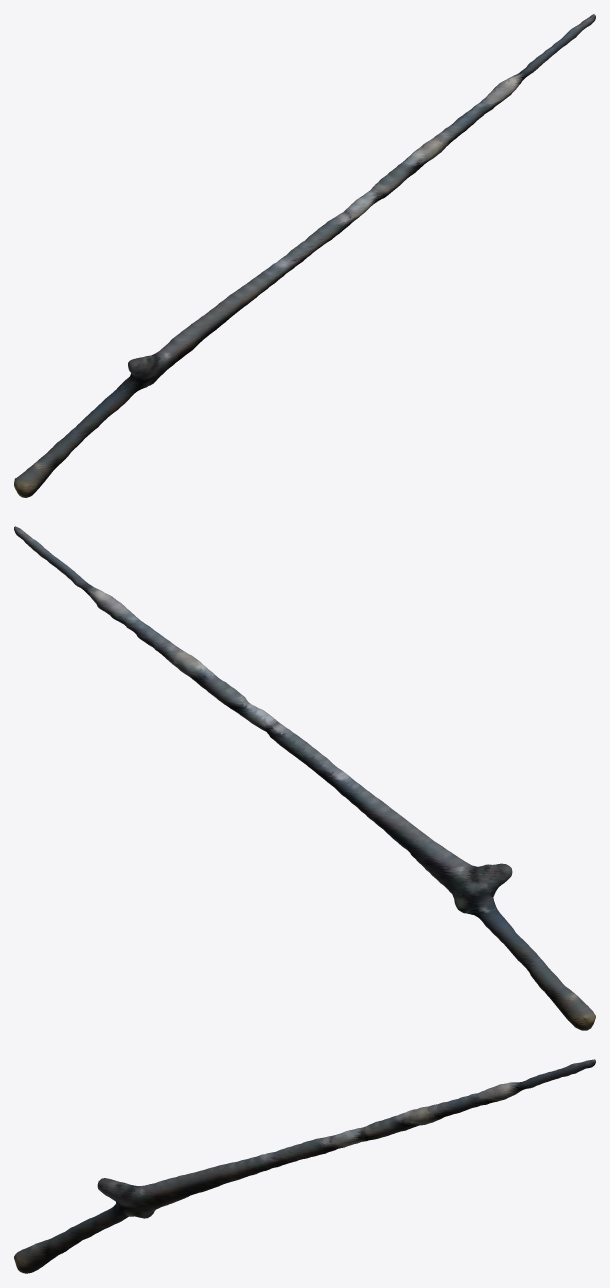
Rendered from kfl-2210.glb.
3 views of the same model, one above another, from view 1: azimuth 30°, elevation 25°; view 2: azimuth 150°, elevation 25°; view 3: azimuth 330°, elevation 25° (orthographic). The views are drawn at different scales.
Parts seen in each view (by area): view 1: geometry_0; view 2: geometry_0; view 3: geometry_0.
Boxes of the visible parts, x1,y1,x2,y2 form: geometry_0: (14, 14, 595, 497); geometry_0: (14, 526, 595, 1030); geometry_0: (14, 1059, 595, 1273).
Bounding box in the file's own units: 0.9871 × 0.5757 × 0.0751.
Materials: 1 (1 with a texture image).
